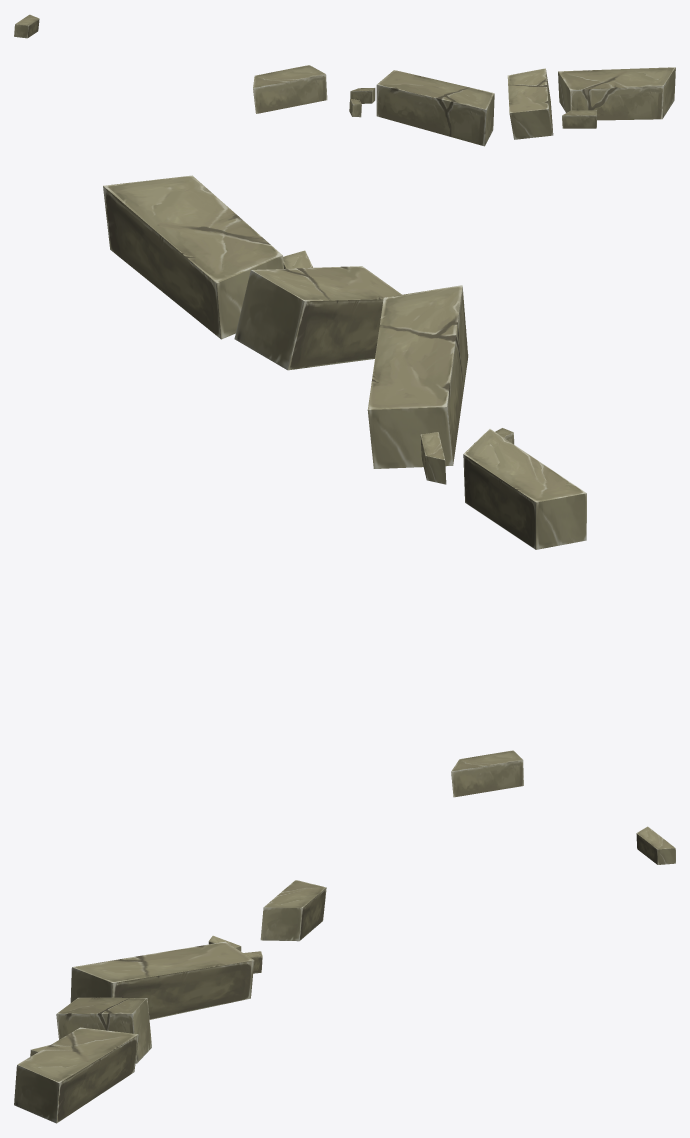
Rendered from wallrocks_convextop.fbx.
3 views of the same model, one above another, from view 1: azimuth 30°, elevation 25°; view 2: azimuth 150°, elevation 25°; view 3: azimuth 270°, elevation 25° (orthographic). The views are drawn at different scales.
Visible parts, largest first — view 1: rocks9; view 2: rocks9; view 3: rocks9.
Part boxes in pixels (x1,y1,x2,y2): rocks9: (14, 14, 675, 146); rocks9: (103, 175, 586, 797); rocks9: (14, 826, 675, 1123).
Bounding box in the file's own units: 1.92 × 0.1889 × 1.93.
